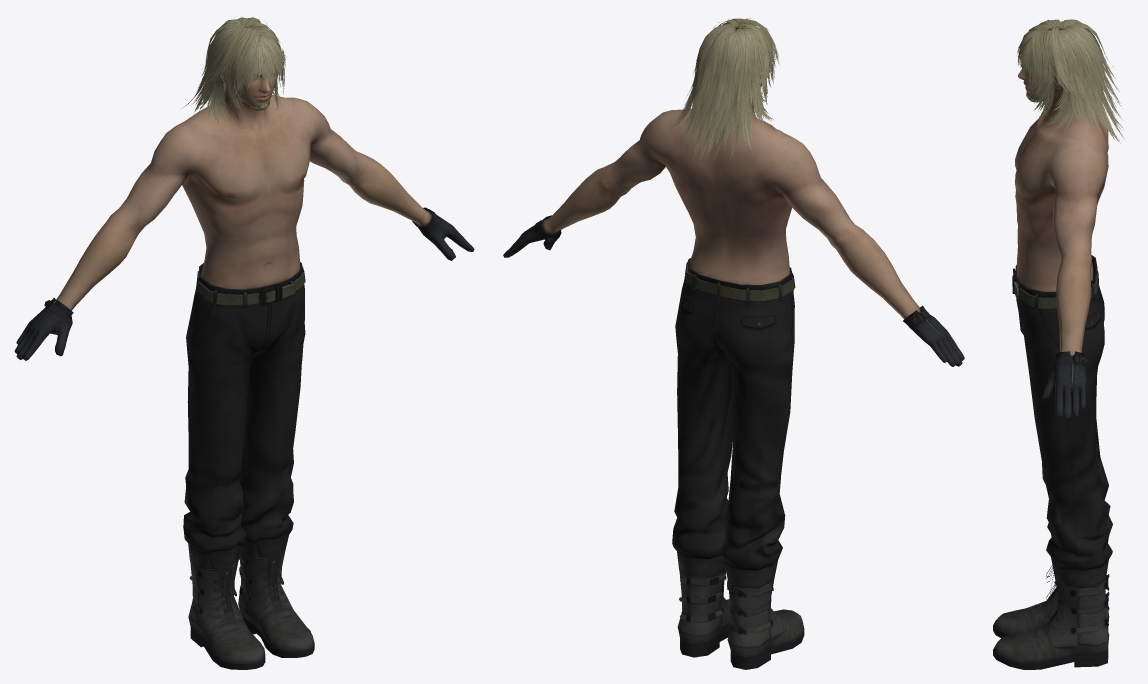
3 renders of one model, left to right at view 1: azimuth 30°, elevation 25°; view 2: azimuth 150°, elevation 25°; view 3: azimuth 270°, elevation 25°, orthographic.
Visible parts, largest first — view 1: Model001_22_clothes2_0.8_10_15, Model001_24_body!1nPart!_1_0_0.001, Model001_24_boots_1_0_0, Model001_25_hair_1_0_0, Model001_24_body!!_1_0_0.001, Model001_24_belt_1_0_0.001; view 2: Model001_22_clothes2_0.8_10_15, Model001_24_body!1nPart!_1_0_0.001, Model001_24_boots_1_0_0, Model001_25_hair_1_0_0, Model001_24_body!!_1_0_0.001, Model001_24_belt_1_0_0.001; view 3: Model001_22_clothes2_0.8_10_15, Model001_24_body!1nPart!_1_0_0.001, Model001_24_boots_1_0_0, Model001_25_hair_1_0_0, Model001_24_body!!_1_0_0.001, Model001_24_belt_1_0_0.001.
Part boxes in pixels (x1,y1,x2,y2): Model001_22_clothes2_0.8_10_15: [14, 207, 474, 554]; Model001_24_body!1nPart!_1_0_0.001: [53, 27, 432, 310]; Model001_24_boots_1_0_0: [188, 533, 314, 669]; Model001_25_hair_1_0_0: [181, 17, 286, 124]; Model001_24_body!!_1_0_0.001: [242, 70, 346, 178]; Model001_24_belt_1_0_0.001: [195, 262, 305, 308]; Model001_22_clothes2_0.8_10_15: [503, 215, 964, 570]; Model001_24_body!1nPart!_1_0_0.001: [542, 26, 920, 319]; Model001_24_boots_1_0_0: [677, 551, 804, 669]; Model001_25_hair_1_0_0: [670, 18, 779, 163]; Model001_24_body!!_1_0_0.001: [630, 108, 719, 204]; Model001_24_belt_1_0_0.001: [684, 258, 795, 304]; Model001_22_clothes2_0.8_10_15: [1016, 278, 1112, 569]; Model001_24_body!1nPart!_1_0_0.001: [1015, 27, 1108, 355]; Model001_24_boots_1_0_0: [993, 534, 1109, 669]; Model001_25_hair_1_0_0: [1017, 19, 1124, 143]; Model001_24_body!!_1_0_0.001: [1015, 71, 1108, 220]; Model001_24_belt_1_0_0.001: [1012, 255, 1098, 312].
Bounding box in the file's own units: 1.54 × 2.02 × 0.4108.
